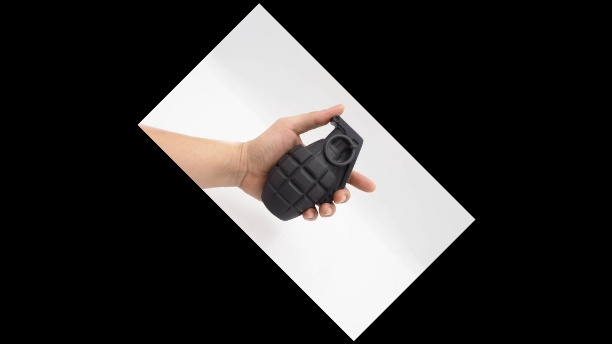e1: (259, 114, 364, 224)
